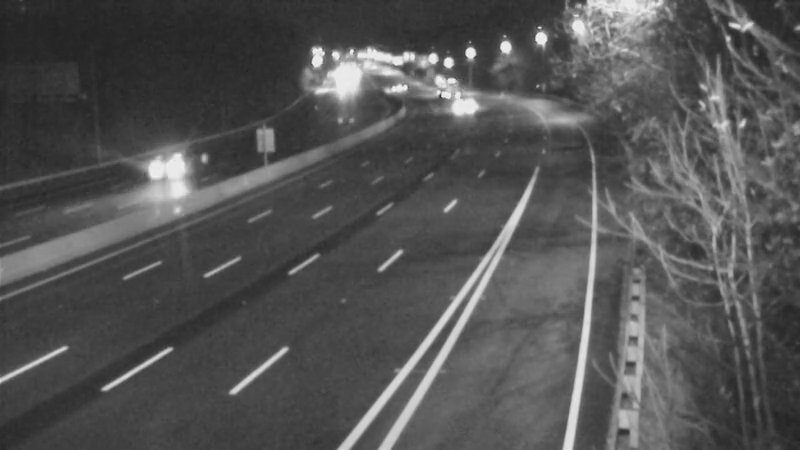vehicle: (123, 125, 203, 205), (376, 60, 426, 110), (362, 63, 412, 113), (418, 63, 468, 113), (438, 81, 488, 131)
